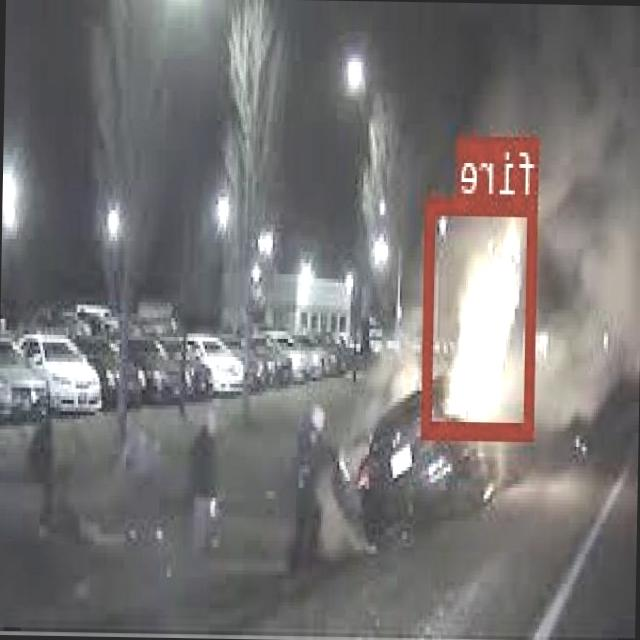fire: (424, 195, 539, 438)
